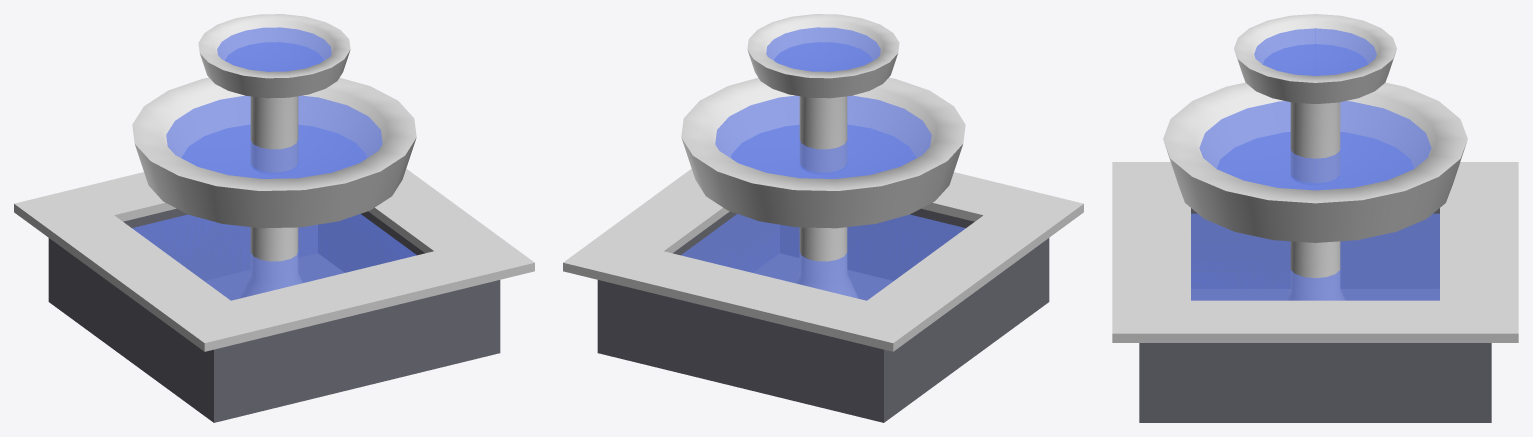
The model's file is Fountain.fbx.
3 renders of one model, left to right at view 1: azimuth 30°, elevation 25°; view 2: azimuth 150°, elevation 25°; view 3: azimuth 270°, elevation 25°, orthographic. The views are drawn at different scales.
Visible parts, largest first — view 1: pasted__pCylinder2; view 2: pasted__pCylinder2; view 3: pasted__pCylinder2.
Part boxes in pixels (<box>): pasted__pCylinder2: <box>14,14,534,422</box>; pasted__pCylinder2: <box>563,14,1083,422</box>; pasted__pCylinder2: <box>1112,14,1518,422</box>.
Bounding box in the file's own units: 16 × 13.6 × 16.
